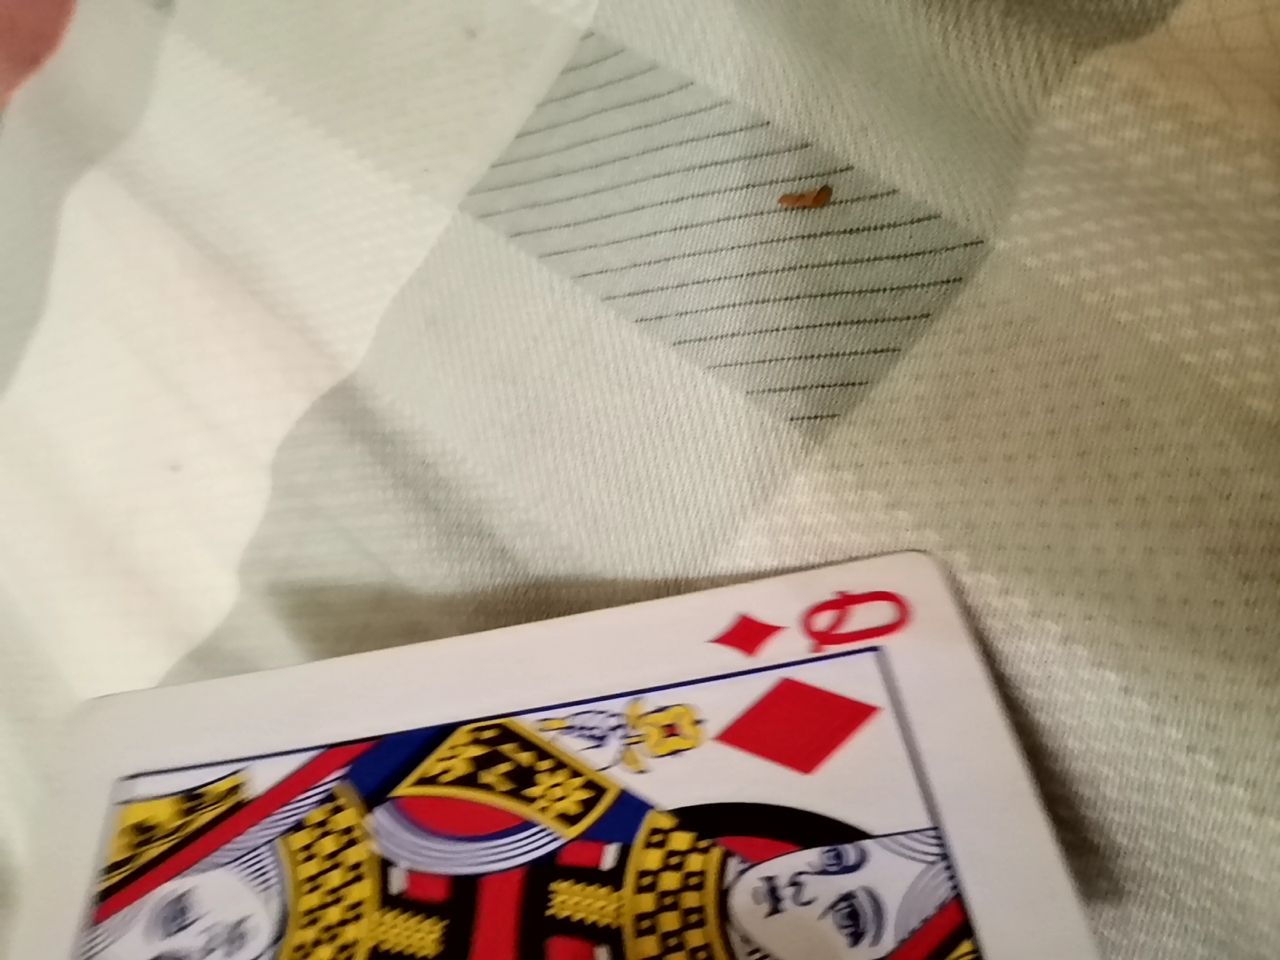fk q: (15, 549, 1149, 954)
